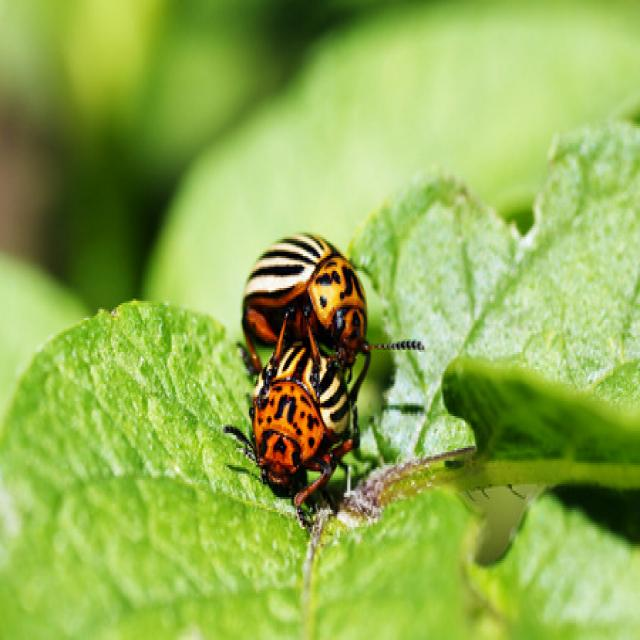ShuCaiHuaBanChong-Grown-: (243, 329, 364, 505), (238, 223, 376, 364)
